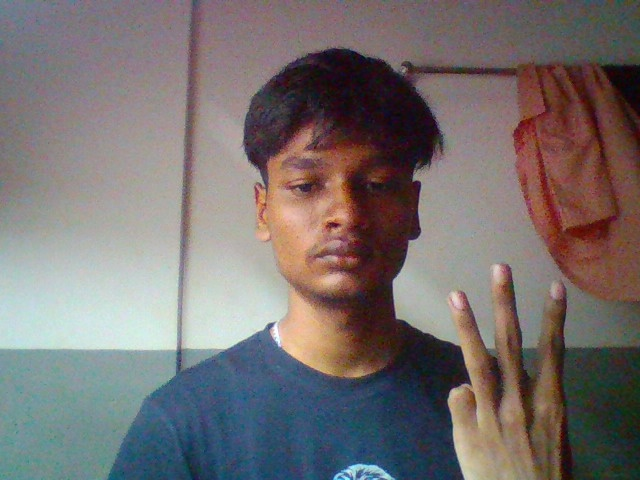W: (430, 261, 580, 478)
